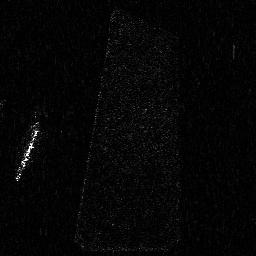ship: (15, 123, 41, 181)
